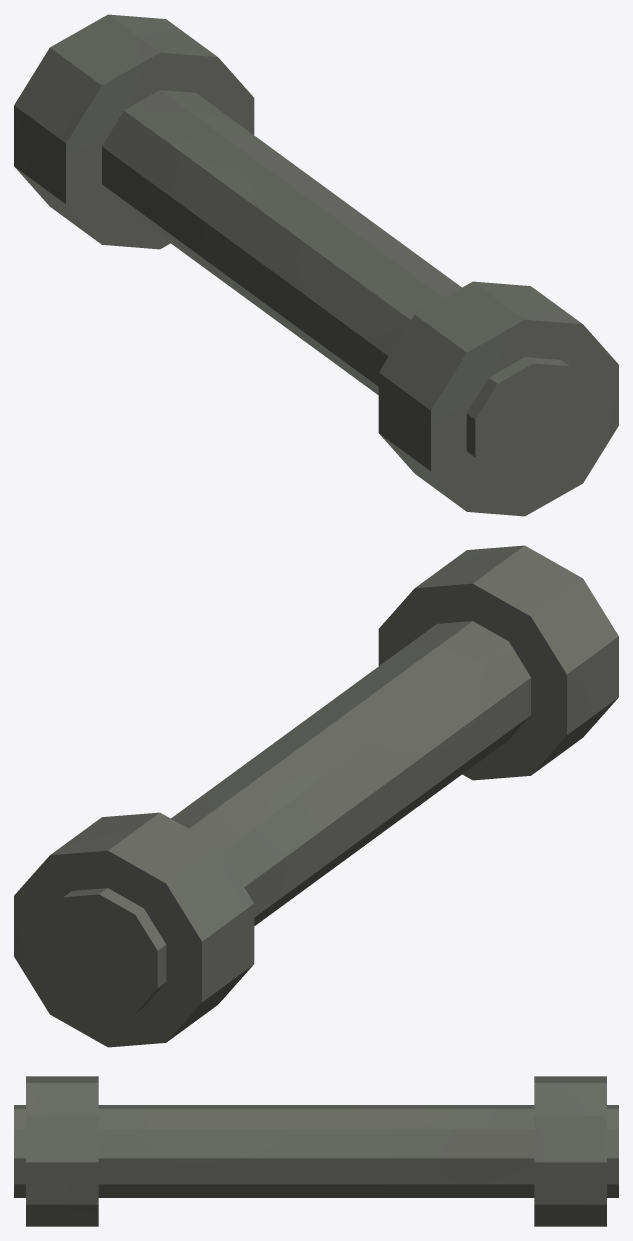
The model's file is WarrensC_WVC030_WheelAxle_Mars_SM.fbx.
3 views of the same model, one above another, from view 1: azimuth 30°, elevation 25°; view 2: azimuth 150°, elevation 25°; view 3: azimuth 270°, elevation 25° (orthographic). The views are drawn at different scales.
Parts seen in each view (by area): view 1: WarrensC_WVC030_WheelAxle_Mars_SM.001; view 2: WarrensC_WVC030_WheelAxle_Mars_SM.001; view 3: WarrensC_WVC030_WheelAxle_Mars_SM.001.
Part boxes in pixels (box(x1,y1,x2,y2)): WarrensC_WVC030_WheelAxle_Mars_SM.001: box(14, 14, 618, 516); WarrensC_WVC030_WheelAxle_Mars_SM.001: box(14, 545, 618, 1047); WarrensC_WVC030_WheelAxle_Mars_SM.001: box(14, 1076, 618, 1226).
Size of the model in its own units: 20 by 80 by 20.
